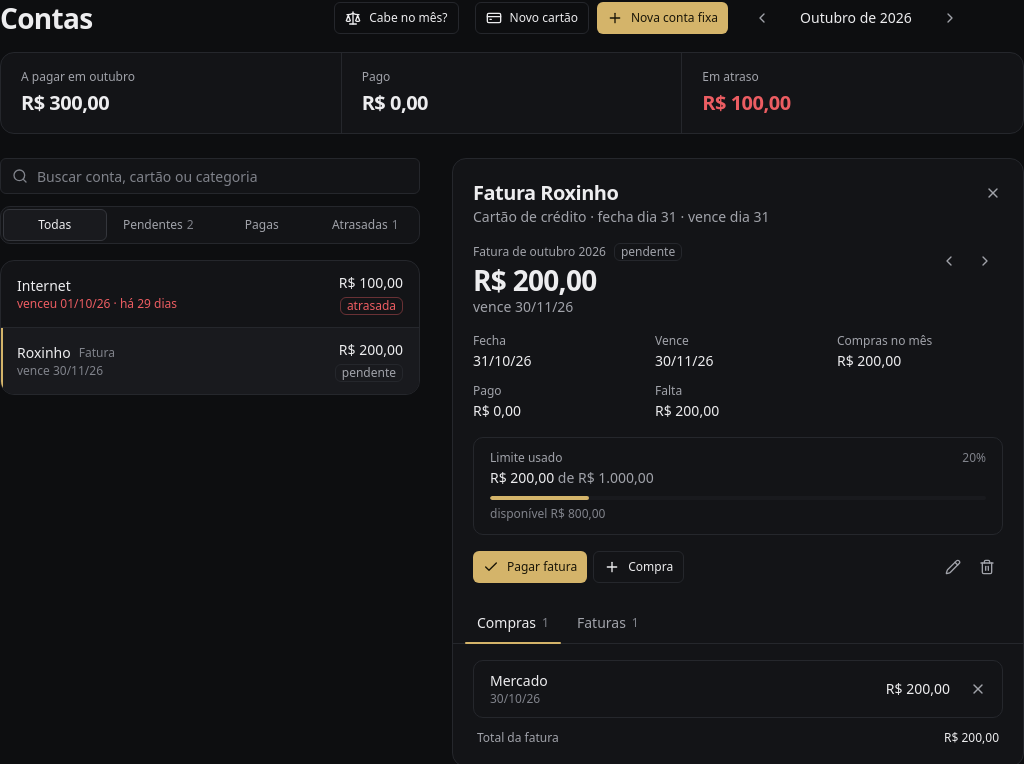
it: Contas: escrita › pagar fatura cria o pagamento e a saída na carteira
Click the button "Pagar fatura".
click(530, 567)  # box 473,551 -> 587,583
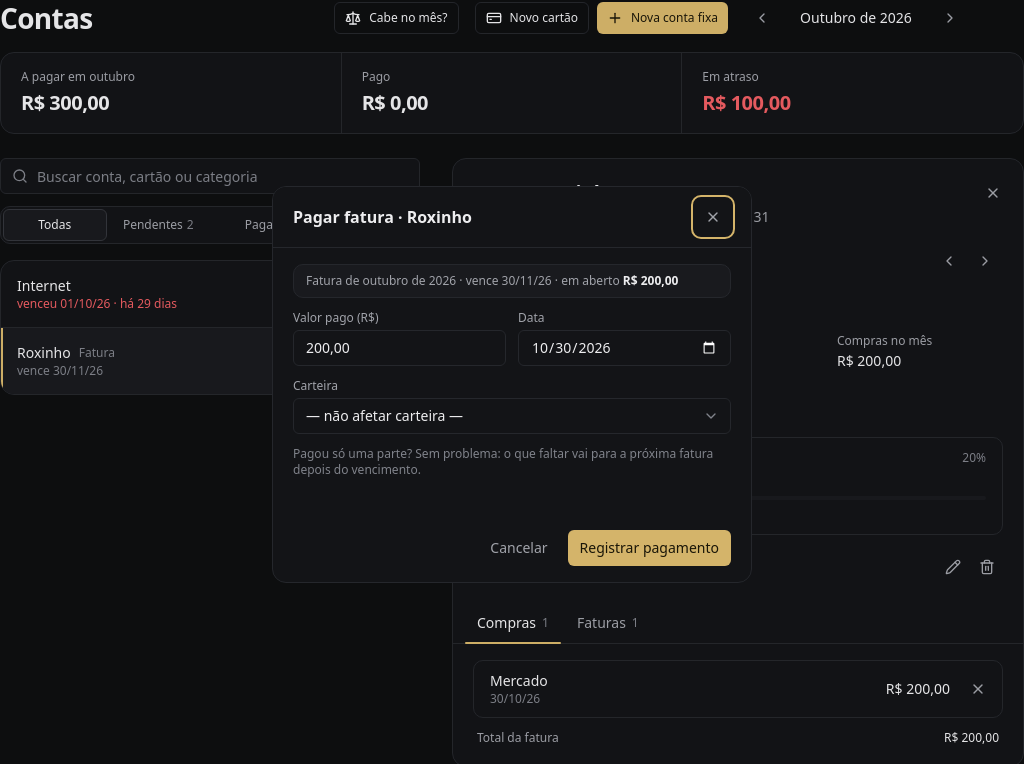
Click the dropdown labelled "carteira".
click(385, 415)  # box 293,398 -> 731,434
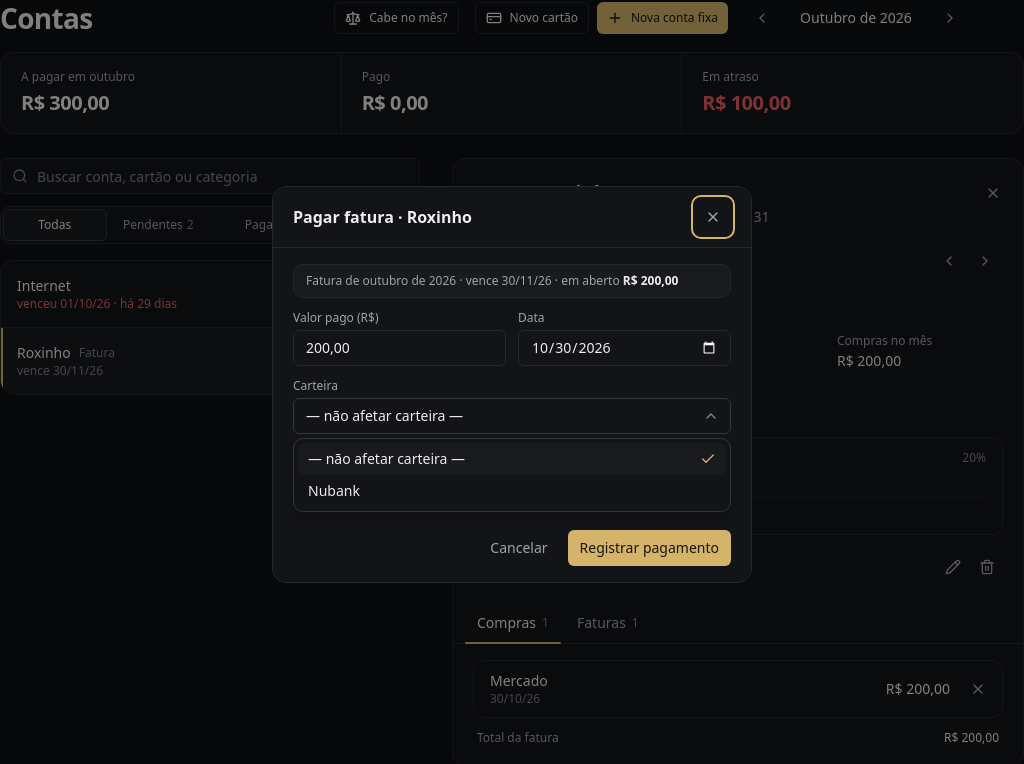
Click the option "Nubank".
click(334, 490)  # box 308,480 -> 360,500
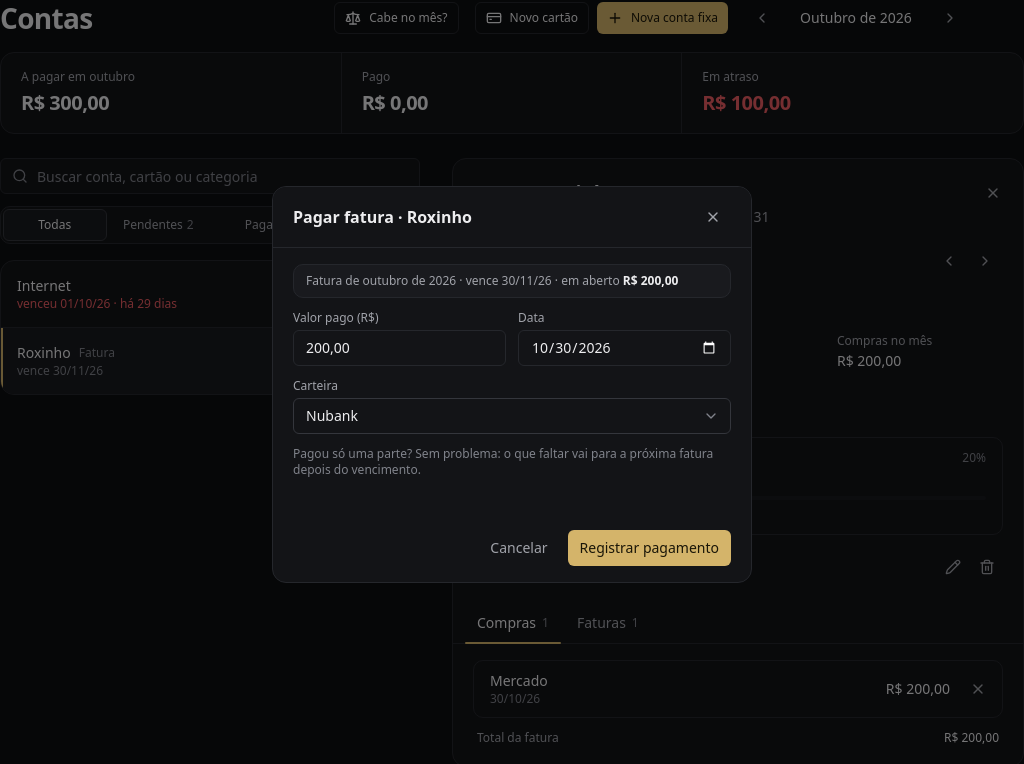
Click the button "Registrar pagamento".
click(649, 548)  # box 568,530 -> 731,566
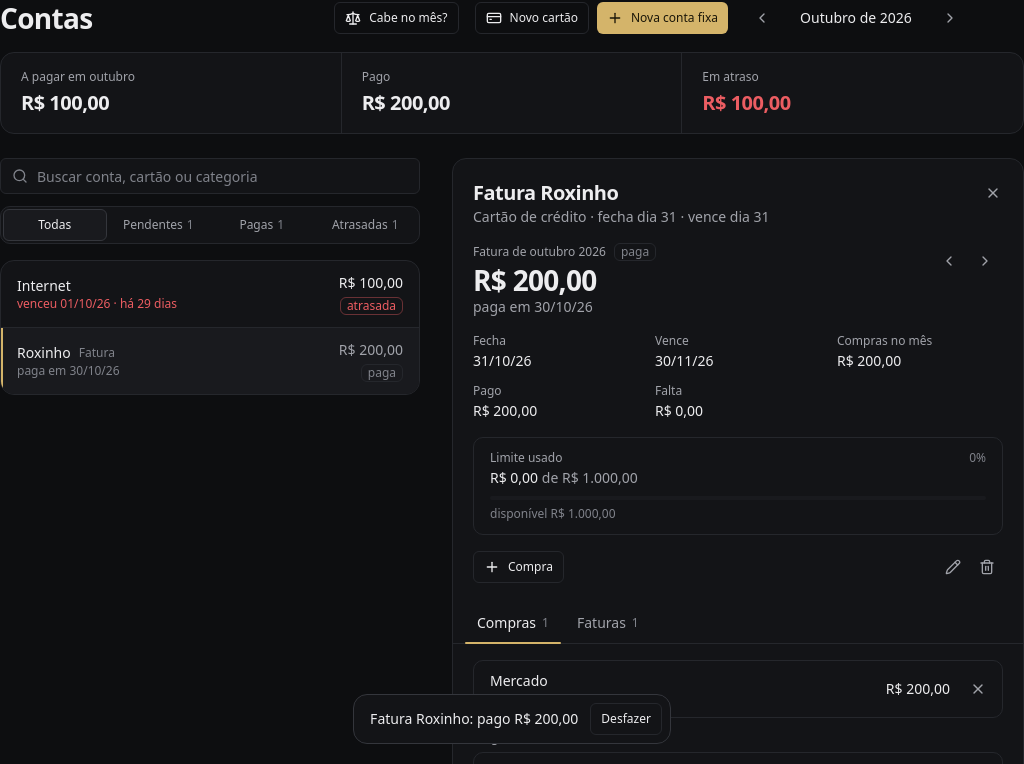
Expected: the button "Pagar fatura" is gone
